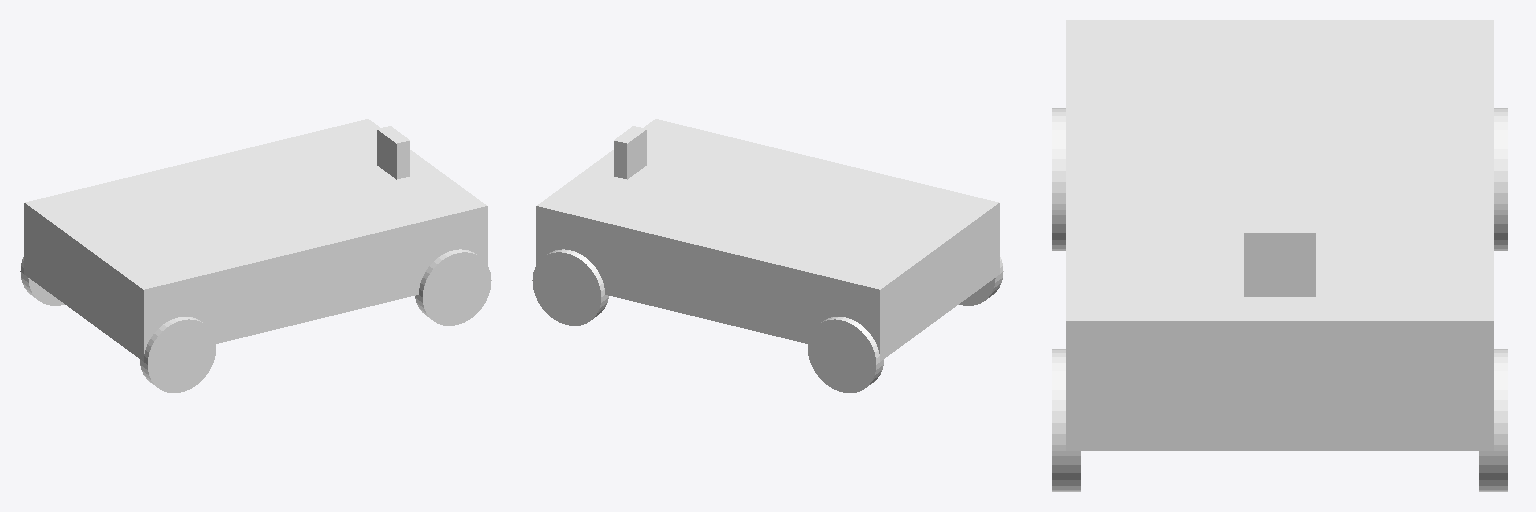
robot.urdf — test_car:
<?xml version="1.0" encoding="utf-8"?>
<!-- This URDF was automatically created by SolidWorks to URDF Exporter! Originally created by Stephen Brawner (brawner@gmail.com) 
     Commit Version: 1.6.0-4-g7f85cfe  Build Version: 1.6.7995.38578
     For more information, please see http://wiki.ros.org/sw_urdf_exporter -->
<robot
  name="test_car">
  <link
    name="base_footprint">
    <inertial>
      <origin
        xyz="3.65602521638501E-20 4.51154880556578E-20 -0.0005"
        rpy="0 0 0" />
      <mass
        value="9.99999999999999E-07" />
      <inertia
        ixx="1.66666666666666E-13"
        ixy="2.30227186771012E-30"
        ixz="1.06197409570072E-29"
        iyy="1.66666666666666E-13"
        iyz="5.23878147686892E-31"
        izz="1.66666666666666E-13" />
    </inertial>
    <visual>
      <origin
        xyz="0 0 0"
        rpy="0 0 0" />
      <geometry>
        <mesh
          filename="package://test_car/meshes/base_footprint.STL" />
      </geometry>
      <material
        name="">
        <color
          rgba="1 1 1 1" />
      </material>
    </visual>
    <collision>
      <origin
        xyz="0 0 0"
        rpy="0 0 0" />
      <geometry>
        <mesh
          filename="package://test_car/meshes/base_footprint.STL" />
      </geometry>
    </collision>
  </link>
  <link
    name="base_link">
    <inertial>
      <origin
        xyz="-3.78266091289387E-17 1.67090202662607E-16 -1.38777878078145E-17"
        rpy="0 0 0" />
      <mass
        value="15" />
      <inertia
        ixx="0.125"
        ixy="5.76984863432593E-17"
        ixz="-2.30213171860502E-17"
        iyy="0.325"
        iyz="2.13081364011146E-17"
        izz="0.425" />
    </inertial>
    <visual>
      <origin
        xyz="0 0 0"
        rpy="0 0 0" />
      <geometry>
        <mesh
          filename="package://test_car/meshes/base_link.STL" />
      </geometry>
      <material
        name="">
        <color
          rgba="1 1 1 1" />
      </material>
    </visual>
    <collision>
      <origin
        xyz="0 0 0"
        rpy="0 0 0" />
      <geometry>
        <mesh
          filename="package://test_car/meshes/base_link.STL" />
      </geometry>
    </collision>
  </link>
  <joint
    name="base_link_2_base_footprint"
    type="fixed">
    <origin
      xyz="0 0 0.1"
      rpy="0 0 0" />
    <parent
      link="base_footprint" />
    <child
      link="base_link" />
    <axis
      xyz="0 0 0" />
  </joint>
  <link
    name="camera">
    <inertial>
      <origin
        xyz="0 1.63593402333854E-16 0"
        rpy="0 0 0" />
      <mass
        value="0.0500000000000001" />
      <inertia
        ixx="2.08333333333334E-05"
        ixy="-1.47738703895039E-21"
        ixz="-2.80611132825676E-22"
        iyy="1.20833333333333E-05"
        iyz="3.25182672145155E-21"
        izz="1.20833333333334E-05" />
    </inertial>
    <visual>
      <origin
        xyz="0 0 0"
        rpy="0 0 0" />
      <geometry>
        <mesh
          filename="package://test_car/meshes/camera.STL" />
      </geometry>
      <material
        name="">
        <color
          rgba="1 1 1 1" />
      </material>
    </visual>
    <collision>
      <origin
        xyz="0 0 0"
        rpy="0 0 0" />
      <geometry>
        <mesh
          filename="package://test_car/meshes/camera.STL" />
      </geometry>
    </collision>
  </link>
  <joint
    name="camera_2_base_link"
    type="continuous">
    <origin
      xyz="0.2 0 0.075"
      rpy="0 0 0" />
    <parent
      link="base_link" />
    <child
      link="camera" />
    <axis
      xyz="0 0 1" />
  </joint>
  <link
    name="wheel1">
    <inertial>
      <origin
        xyz="0 0 0"
        rpy="0 0 0" />
      <mass
        value="0.15707963267949" />
      <inertia
        ixx="0.000103410758180664"
        ixy="1.68087878152442E-37"
        ixz="-6.51805057659771E-35"
        iyy="0.000103410758180664"
        iyz="8.00029836730731E-21"
        izz="0.000196349540849362" />
    </inertial>
    <visual>
      <origin
        xyz="0 0 0"
        rpy="0 0 0" />
      <geometry>
        <mesh
          filename="package://test_car/meshes/wheel1.STL" />
      </geometry>
      <material
        name="">
        <color
          rgba="1 1 1 1" />
      </material>
    </visual>
    <collision>
      <origin
        xyz="0 0 0"
        rpy="0 0 0" />
      <geometry>
        <mesh
          filename="package://test_car/meshes/wheel1.STL" />
      </geometry>
    </collision>
  </link>
  <joint
    name="wheel1_2_base_link"
    type="continuous">
    <origin
      xyz="-0.2 -0.149999999999996 -0.05"
      rpy="-1.5707963267949 0 0" />
    <parent
      link="base_link" />
    <child
      link="wheel1" />
    <axis
      xyz="0 0 1" />
  </joint>
  <link
    name="wheel2">
    <inertial>
      <origin
        xyz="-2.77555756156289E-17 6.93889390390723E-18 2.77555756156289E-17"
        rpy="0 0 0" />
      <mass
        value="0.15707963267949" />
      <inertia
        ixx="0.000103410758180664"
        ixy="-1.5783048957192E-36"
        ixz="-1.12937726300579E-21"
        iyy="0.000103410758180664"
        iyz="8.00029836730731E-21"
        izz="0.000196349540849362" />
    </inertial>
    <visual>
      <origin
        xyz="0 0 0"
        rpy="0 0 0" />
      <geometry>
        <mesh
          filename="package://test_car/meshes/wheel2.STL" />
      </geometry>
      <material
        name="">
        <color
          rgba="1 1 1 1" />
      </material>
    </visual>
    <collision>
      <origin
        xyz="0 0 0"
        rpy="0 0 0" />
      <geometry>
        <mesh
          filename="package://test_car/meshes/wheel2.STL" />
      </geometry>
    </collision>
  </link>
  <joint
    name="wheel2_2_base_link"
    type="continuous">
    <origin
      xyz="0.2 -0.149999999999996 -0.05"
      rpy="-1.5707963267949 0 0" />
    <parent
      link="base_link" />
    <child
      link="wheel2" />
    <axis
      xyz="0 0 1" />
  </joint>
  <link
    name="wheel3">
    <inertial>
      <origin
        xyz="0 1.38777878078145E-17 0.01"
        rpy="0 0 0" />
      <mass
        value="0.15707963267949" />
      <inertia
        ixx="0.000103410758180664"
        ixy="2.58888210849757E-37"
        ixz="3.67568949693932E-35"
        iyy="0.000103410758180664"
        iyz="4.58218723925885E-20"
        izz="0.000196349540849362" />
    </inertial>
    <visual>
      <origin
        xyz="0 0 0"
        rpy="0 0 0" />
      <geometry>
        <mesh
          filename="package://test_car/meshes/wheel3.STL" />
      </geometry>
      <material
        name="">
        <color
          rgba="1 1 1 1" />
      </material>
    </visual>
    <collision>
      <origin
        xyz="0 0 0"
        rpy="0 0 0" />
      <geometry>
        <mesh
          filename="package://test_car/meshes/wheel3.STL" />
      </geometry>
    </collision>
  </link>
  <joint
    name="wheel3_2_base_link"
    type="continuous">
    <origin
      xyz="-0.2 0.14 -0.05"
      rpy="-1.5707963267949 0 0" />
    <parent
      link="base_link" />
    <child
      link="wheel3" />
    <axis
      xyz="0 0 1" />
  </joint>
  <link
    name="wheel4">
    <inertial>
      <origin
        xyz="-2.77555756156289E-17 6.93889390390723E-18 0"
        rpy="0 0 0" />
      <mass
        value="0.15707963267949" />
      <inertia
        ixx="0.000103410758180664"
        ixy="-5.08492473601865E-36"
        ixz="-1.12937726300569E-21"
        iyy="0.000103410758180664"
        iyz="-2.66676612243577E-21"
        izz="0.000196349540849362" />
    </inertial>
    <visual>
      <origin
        xyz="0 0 0"
        rpy="0 0 0" />
      <geometry>
        <mesh
          filename="package://test_car/meshes/wheel4.STL" />
      </geometry>
      <material
        name="">
        <color
          rgba="1 1 1 1" />
      </material>
    </visual>
    <collision>
      <origin
        xyz="0 0 0"
        rpy="0 0 0" />
      <geometry>
        <mesh
          filename="package://test_car/meshes/wheel4.STL" />
      </geometry>
    </collision>
  </link>
  <joint
    name="wheel4_2_base_link"
    type="continuous">
    <origin
      xyz="0.2 0.15 -0.05"
      rpy="-1.5707963267949 0 0" />
    <parent
      link="base_link" />
    <child
      link="wheel4" />
    <axis
      xyz="0 0 1" />
  </joint>
</robot>

--- Render facts (derived) ---
The picture shows the robot from 3 angles, left to right: view 1: azimuth 30°, elevation 25°; view 2: azimuth 150°, elevation 25°; view 3: azimuth 270°, elevation 25°; orthographic projection.
Robot: test_car — 7 links, 6 joints (5 continuous, 1 fixed); root link base_footprint; default pose: every joint at zero.
Visible links, largest first — view 1: base_link, wheel1, wheel2, camera, wheel3; view 2: base_link, wheel3, wheel4, camera, wheel1; view 3: base_link, camera, wheel2, wheel4, wheel1, wheel3.
Boxes of the visible links, <box> form: base_link: <box>24,119,487,361</box>; wheel1: <box>140,317,215,392</box>; wheel2: <box>415,249,491,325</box>; camera: <box>377,126,409,179</box>; wheel3: <box>20,257,64,305</box>; base_link: <box>536,119,999,361</box>; wheel3: <box>808,317,883,392</box>; wheel4: <box>532,249,608,325</box>; camera: <box>614,126,646,179</box>; wheel1: <box>959,257,1003,305</box>; base_link: <box>1066,20,1493,450</box>; camera: <box>1244,221,1315,296</box>; wheel2: <box>1052,349,1080,491</box>; wheel4: <box>1479,349,1507,491</box>; wheel1: <box>1052,108,1065,250</box>; wheel3: <box>1494,108,1507,250</box>.
Bounding box of the posed robot: 0.5 × 0.32 × 0.2005 m (x, y, z).
7 mesh visuals loaded from 7 distinct referenced files (7 binary STL).
